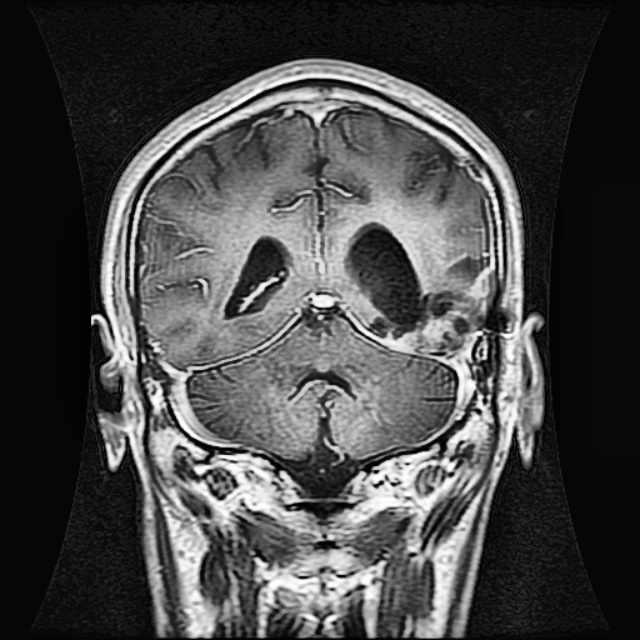Meningioma: (340, 219, 499, 365)
